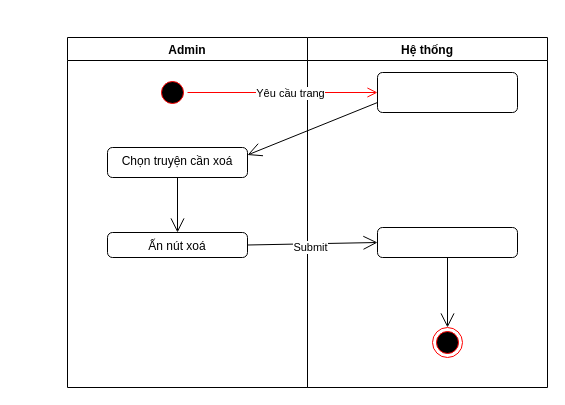
The diagram is 565 pixels wide and 405 high, and some of its shapes have lost their labels. The centre of each missing label's shape, as x and y in pixels:
"Cập nhật cơ sở dữ liệu" goes at pixel 447 242.
"Hiển thị trang quản lý truyện" goes at pixel 447 92.
